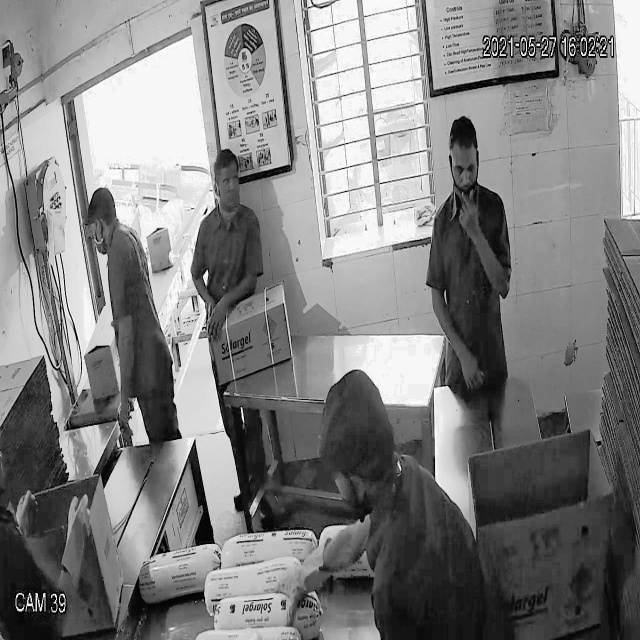Sin_gafas: (446, 149, 483, 182), (208, 167, 247, 198)
